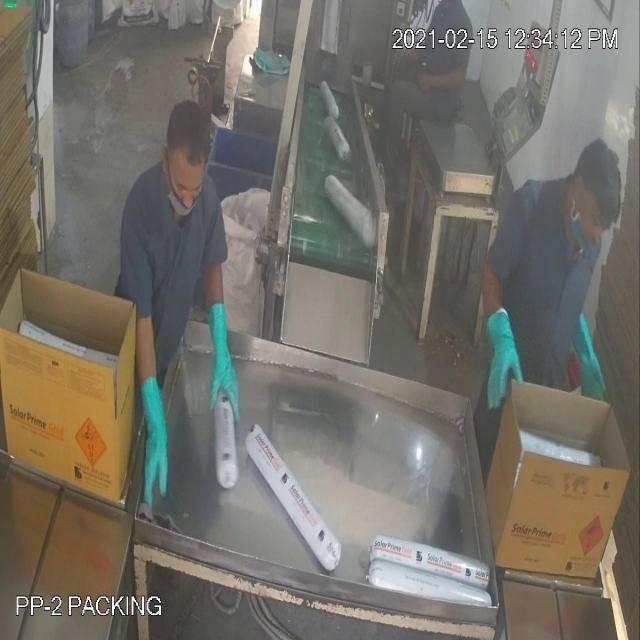Gloves: (44, 56, 501, 438)
